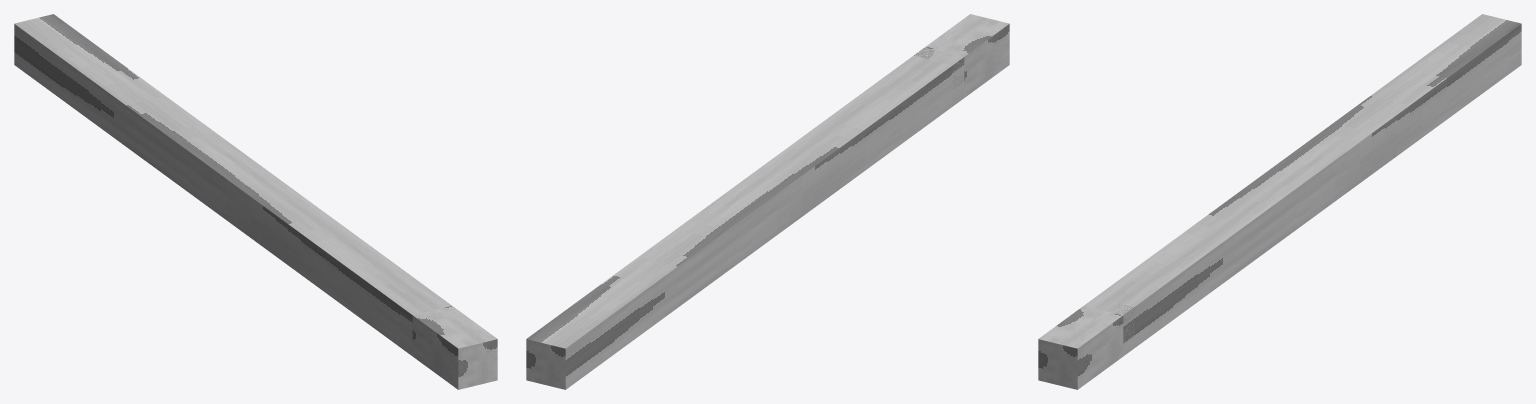
File: crowbar.obj
3 views of the same model, side by side, from view 1: azimuth 30°, elevation 25°; view 2: azimuth 150°, elevation 25°; view 3: azimuth 330°, elevation 25° (orthographic).
Parts seen in each view (by area): view 1: part0, part1; view 2: part0, part1; view 3: part0, part1.
Part boxes in pixels (x1=…): part0: x1=14, y1=14, x2=451, y2=355; part1: x1=402, y1=302, x2=497, y2=389; part0: x1=526, y1=47, x2=964, y2=389; part1: x1=914, y1=14, x2=1009, y2=100; part0: x1=1084, y1=14, x2=1521, y2=355; part1: x1=1038, y1=302, x2=1134, y2=389.
Bounding box in the file's own units: 0.04 × 0.04 × 0.78.
Materials: 2 (2 with a texture image).
